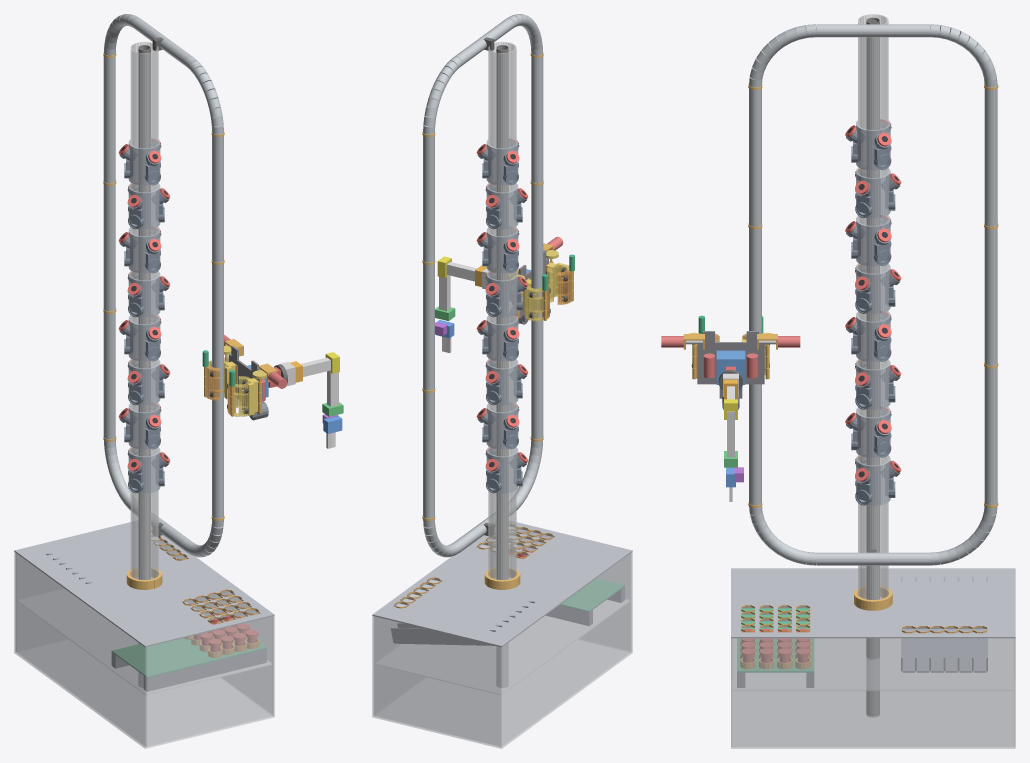
The model's file is reach-test-cart-rolled-v2.glb.
3 views of the same model, side by side, from view 1: azimuth 30°, elevation 25°; view 2: azimuth 150°, elevation 25°; view 3: azimuth 270°, elevation 25° (orthographic). The views are drawn at different scales.
Size of the model in its own units: 0.603 by 1.9 by 0.871.
